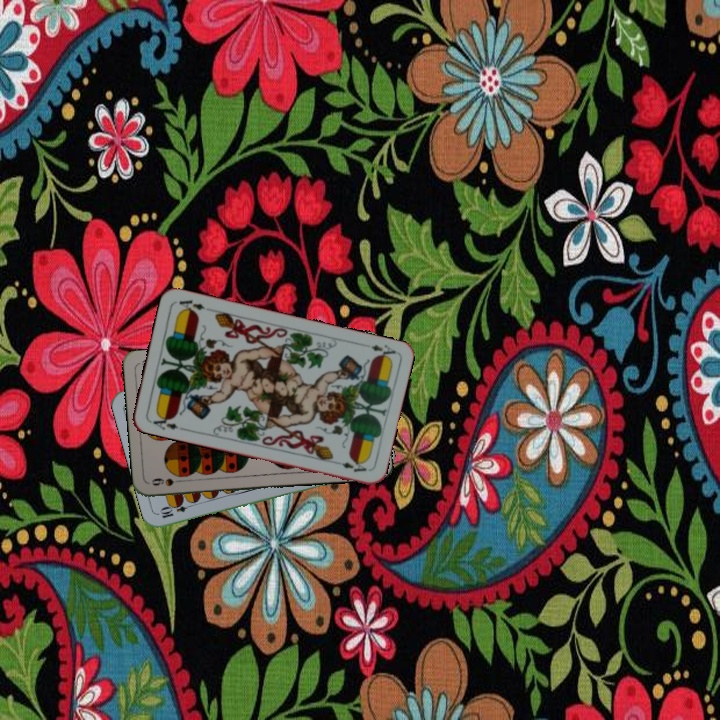E10: (156, 498, 196, 521)
EA: (367, 340, 398, 362), (149, 411, 181, 432)
S9: (148, 474, 188, 489)
